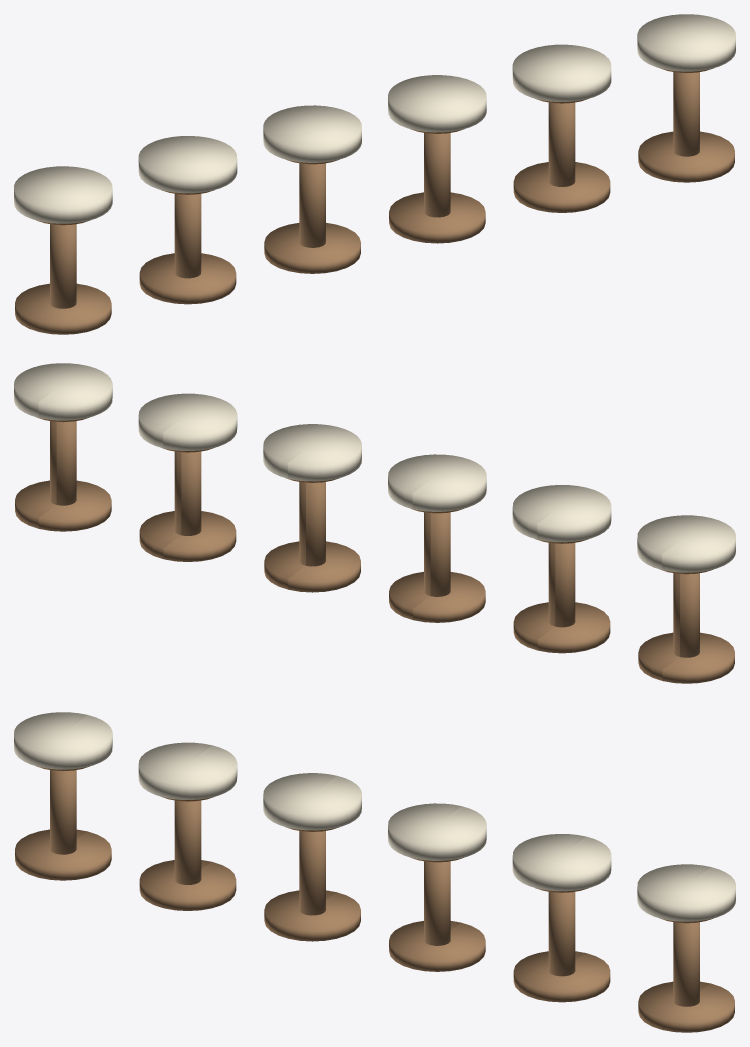
The model's file is yokocho-confectioner-stool-set.glb.
The picture shows the model from 3 angles, top to bottom: view 1: azimuth 30°, elevation 25°; view 2: azimuth 150°, elevation 25°; view 3: azimuth 330°, elevation 25°; orthographic projection.
Visible parts, largest first — view 1: Shops/S08/Personality/ConfectionerSeats__Food_Chestnut, Shops/S08/Personality/ConfectionerSeats__Food_TileCream, Shops/S08/Personality/ConfectionerSeats__Food_Copper; view 2: Shops/S08/Personality/ConfectionerSeats__Food_Chestnut, Shops/S08/Personality/ConfectionerSeats__Food_TileCream, Shops/S08/Personality/ConfectionerSeats__Food_Copper; view 3: Shops/S08/Personality/ConfectionerSeats__Food_Chestnut, Shops/S08/Personality/ConfectionerSeats__Food_TileCream, Shops/S08/Personality/ConfectionerSeats__Food_Copper.
Part boxes in pixels (x1,y1,x2,y2): Shops/S08/Personality/ConfectionerSeats__Food_Chestnut: (15, 72, 734, 334); Shops/S08/Personality/ConfectionerSeats__Food_TileCream: (14, 14, 735, 223); Shops/S08/Personality/ConfectionerSeats__Food_Copper: (36, 68, 713, 225); Shops/S08/Personality/ConfectionerSeats__Food_Chestnut: (15, 421, 734, 683); Shops/S08/Personality/ConfectionerSeats__Food_TileCream: (14, 363, 735, 572); Shops/S08/Personality/ConfectionerSeats__Food_Copper: (36, 417, 713, 574); Shops/S08/Personality/ConfectionerSeats__Food_Chestnut: (15, 770, 734, 1032); Shops/S08/Personality/ConfectionerSeats__Food_TileCream: (14, 712, 735, 921); Shops/S08/Personality/ConfectionerSeats__Food_Copper: (36, 766, 713, 923).
Size of the model in its own units: 3.98 by 0.6825 by 0.48.
